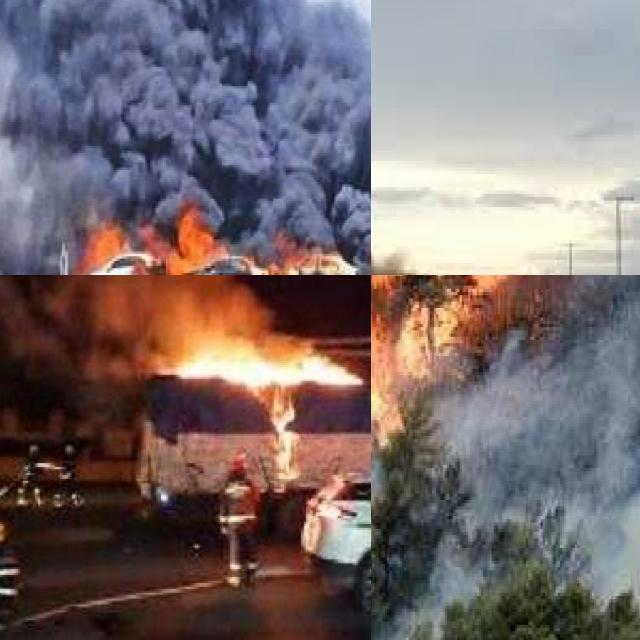fire: (371, 275, 591, 499), (144, 330, 363, 436), (87, 203, 371, 275)
smoke: (380, 275, 640, 640), (0, 0, 371, 237), (0, 275, 297, 355)
